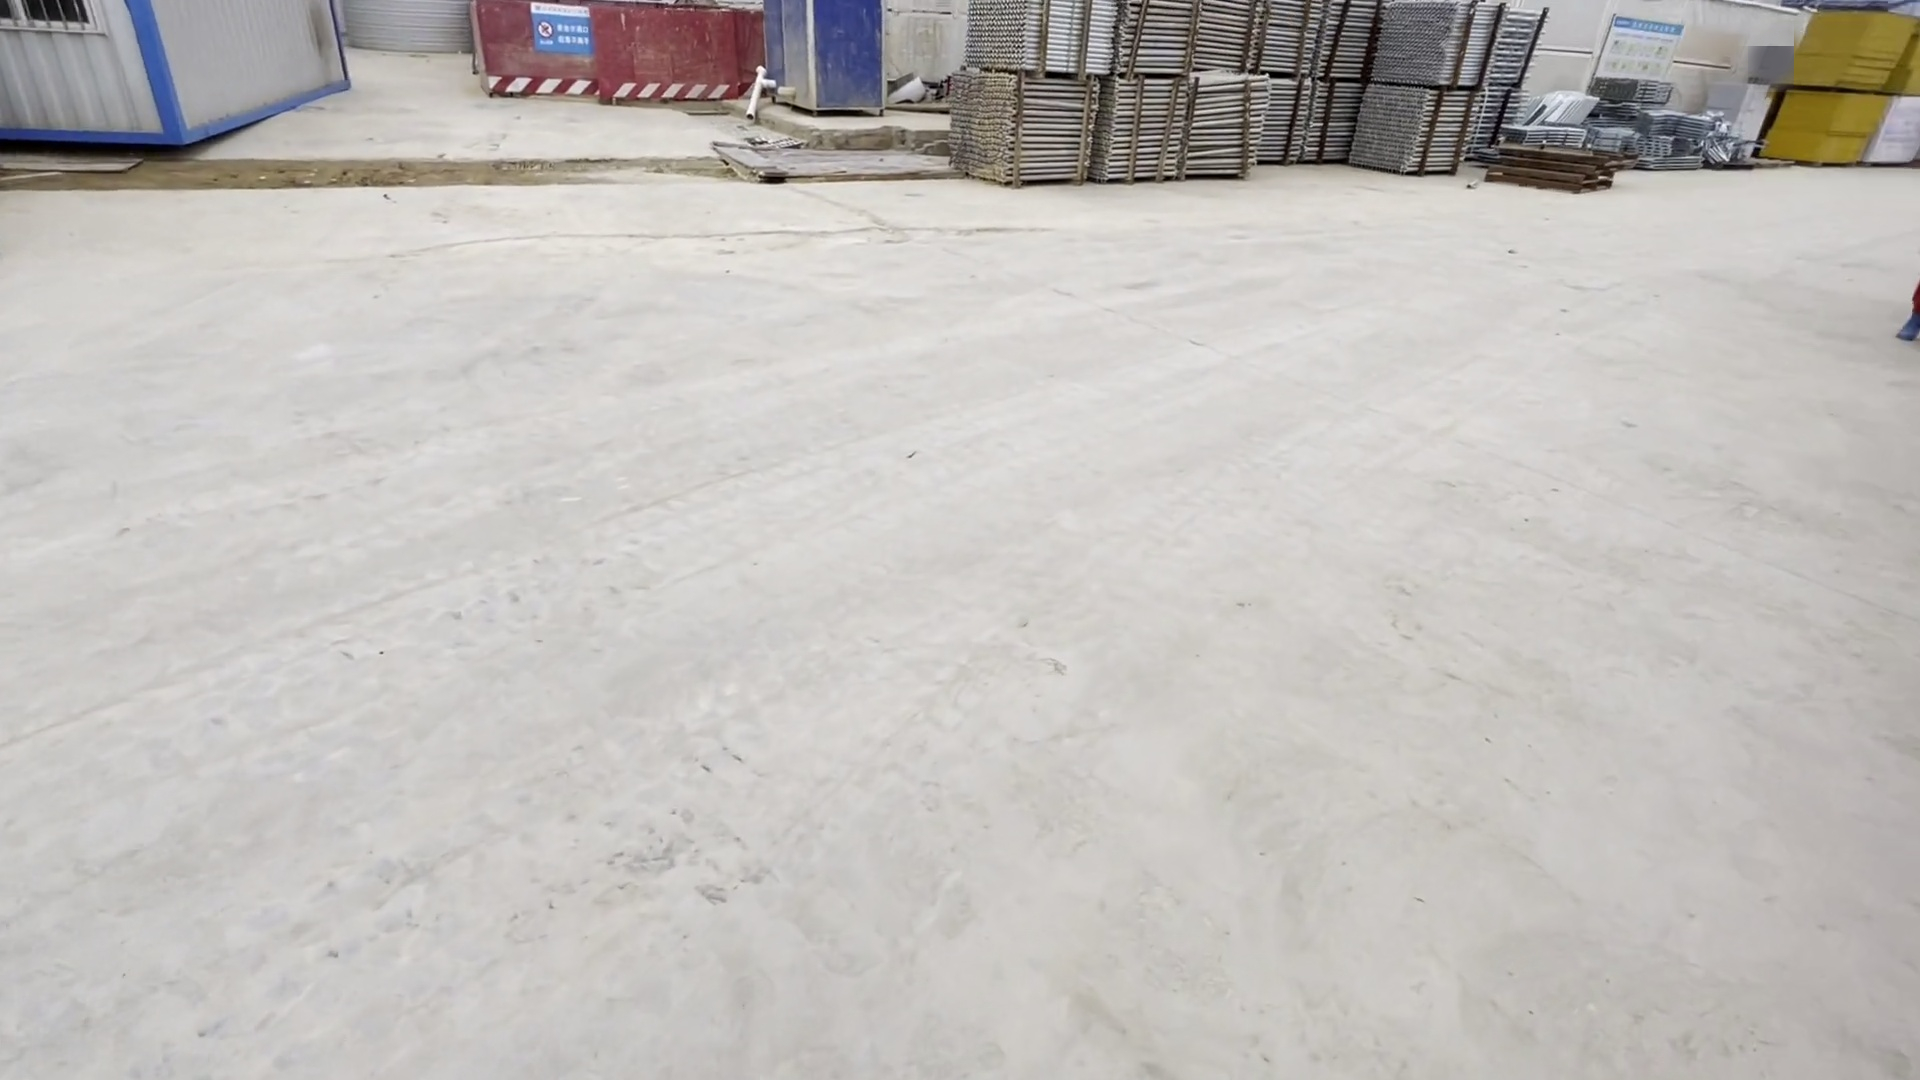fence: (465, 5, 756, 109)
scaffold: (943, 1, 1557, 203)
